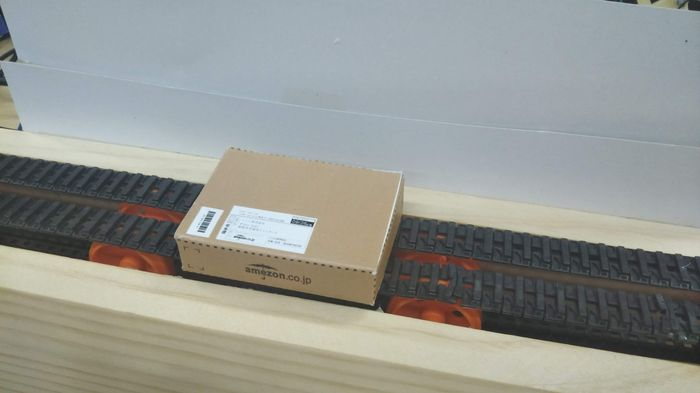box2: (171, 141, 408, 310)
